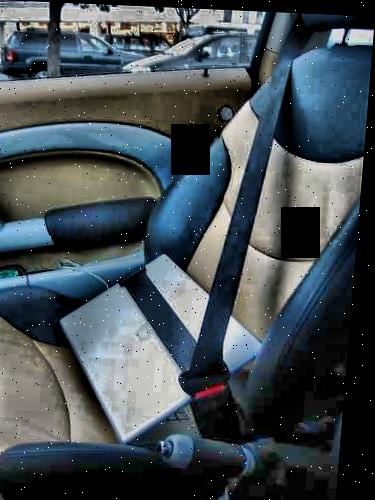seatbelt: (118, 31, 311, 429)
